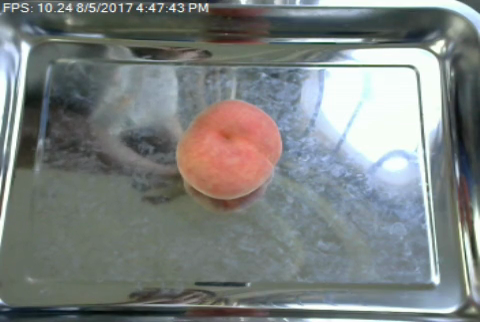Peach: (176, 99, 283, 199)
